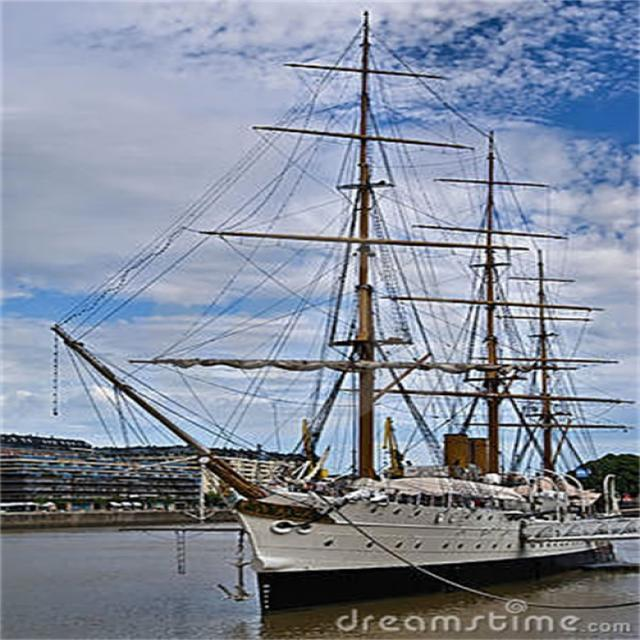Ship: (57, 14, 640, 606)
